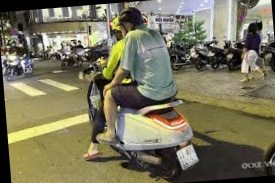Bien-so: (176, 143, 200, 172)
